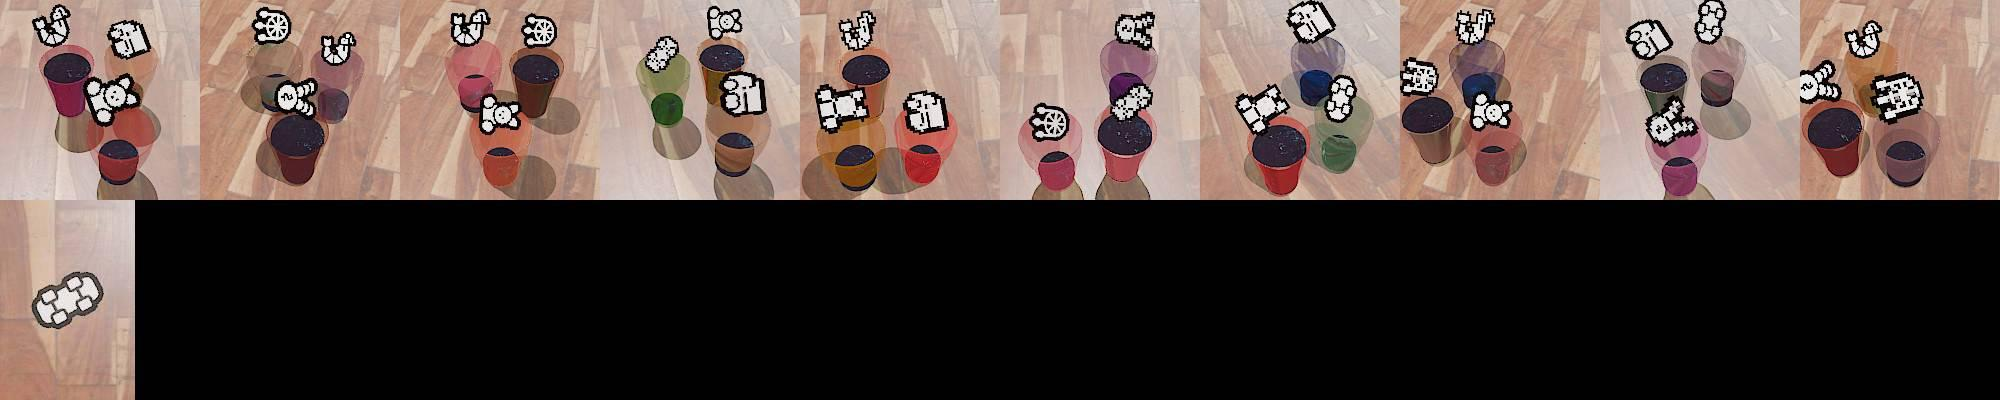icon: (29, 271, 106, 332), (84, 73, 142, 127), (1236, 80, 1291, 134), (1869, 71, 1923, 124), (816, 80, 872, 130), (1647, 93, 1700, 144), (717, 71, 768, 117), (902, 90, 949, 136), (1287, 0, 1334, 45), (1625, 18, 1673, 60), (1105, 80, 1153, 122), (1798, 59, 1841, 104), (106, 19, 153, 60), (1321, 74, 1358, 122), (274, 78, 318, 118), (478, 93, 522, 134), (1469, 92, 1514, 131), (1028, 101, 1070, 141), (32, 4, 71, 47), (1114, 10, 1154, 51), (251, 6, 292, 46), (838, 10, 876, 52), (450, 9, 491, 47), (1455, 6, 1494, 46), (643, 34, 680, 75), (1693, 0, 1727, 43), (1401, 57, 1437, 97), (1846, 20, 1883, 59), (320, 31, 357, 68), (707, 5, 744, 41), (520, 13, 557, 47)
